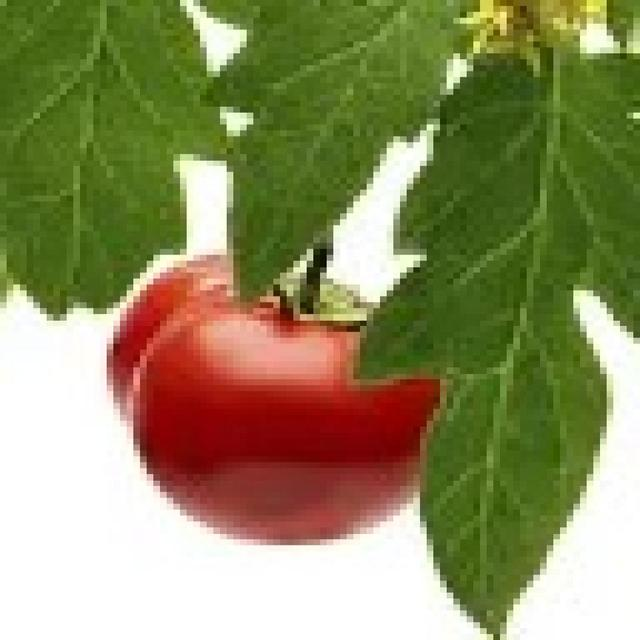Healthy Fruit: (75, 164, 306, 366)
